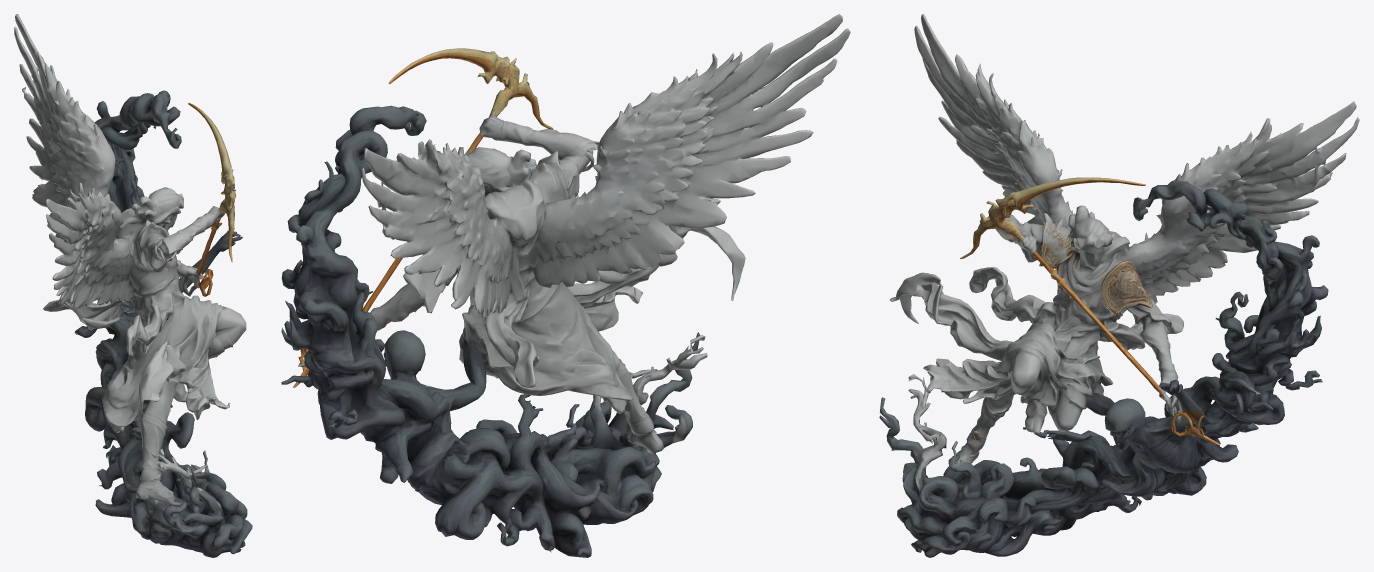
Rendered from tripo_fallen-and-ascension_original.glb.
3 renders of one model, left to right at view 1: azimuth 30°, elevation 25°; view 2: azimuth 150°, elevation 25°; view 3: azimuth 270°, elevation 25°, orthographic. The views are drawn at different scales.
Visible parts, largest first — view 1: tripo_node_0423bdb3-89de-40fd-a40f-a806c83bb030; view 2: tripo_node_0423bdb3-89de-40fd-a40f-a806c83bb030; view 3: tripo_node_0423bdb3-89de-40fd-a40f-a806c83bb030.
Part boxes in pixels (x1,y1,x2,y2): tripo_node_0423bdb3-89de-40fd-a40f-a806c83bb030: [14, 14, 252, 557]; tripo_node_0423bdb3-89de-40fd-a40f-a806c83bb030: [281, 14, 850, 557]; tripo_node_0423bdb3-89de-40fd-a40f-a806c83bb030: [879, 14, 1359, 557].
Size of the model in its own units: 0.8128 by 1 by 0.9902.
Materials: 1 (1 with a texture image).
